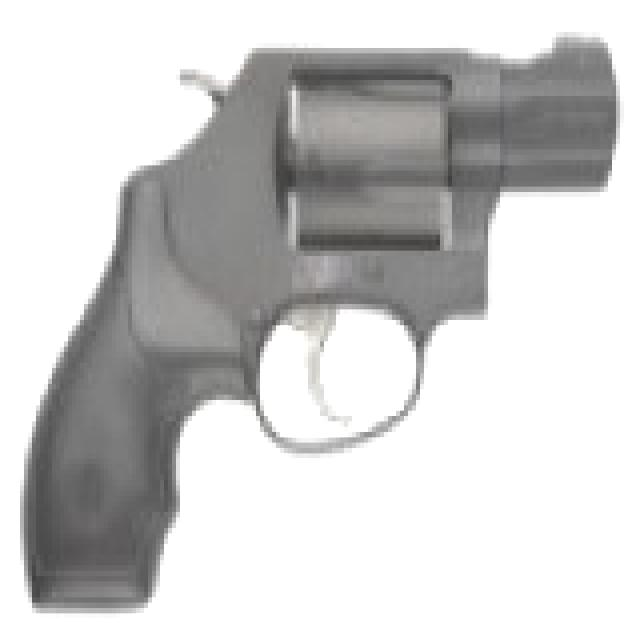pistol: (28, 21, 616, 608)
